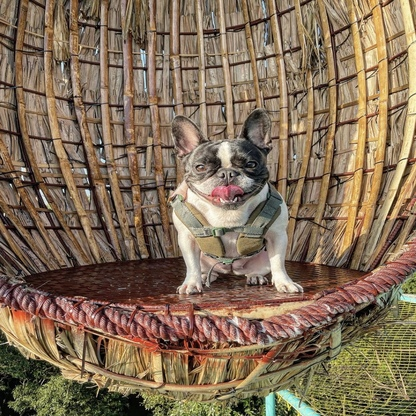bulldog: (166, 107, 306, 297)
